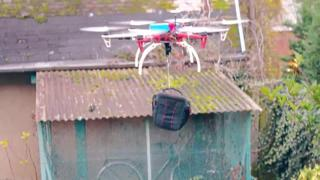UAV: (80, 18, 250, 76)
